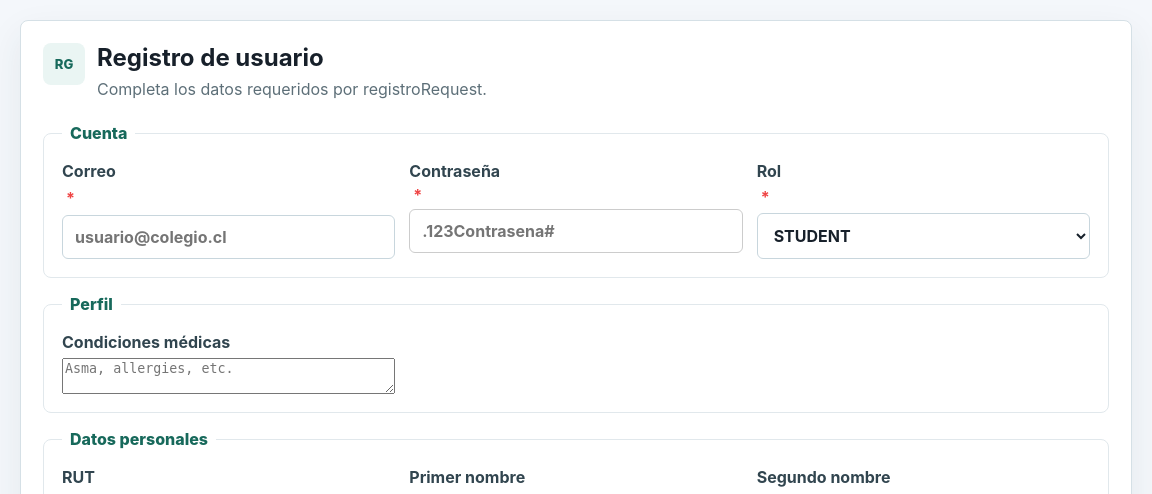
Test case: Componente RegisterForm › cambia los campos de perfil según el rol seleccionado (TEACHER)
Step 1. Select "TEACHER" in the dropdown labelled "Rol *" → (923, 236), box top-left (757, 213), bottom-right (1090, 259)
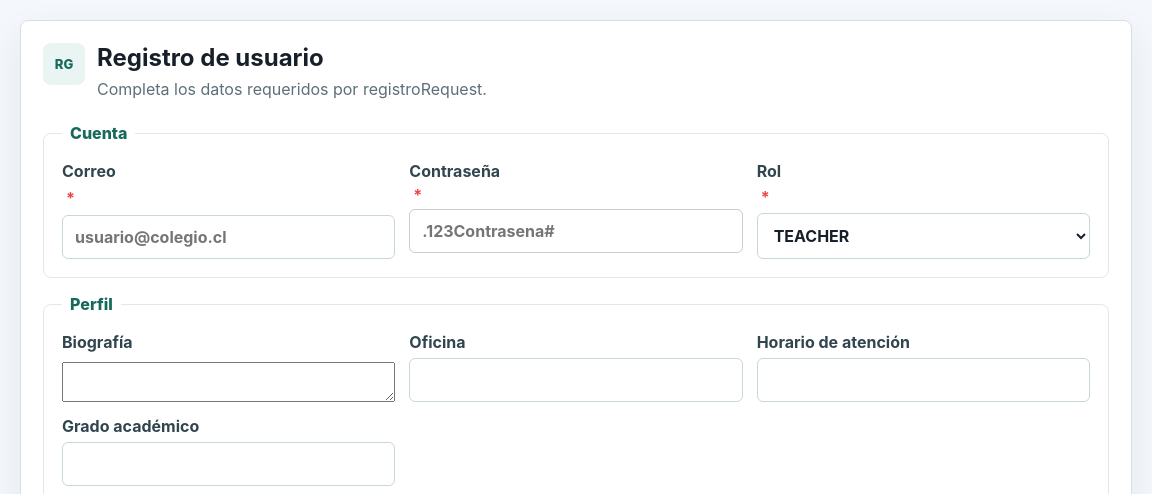
Expected: the text box labelled "Biografía" is shown, top-left (62, 362), bottom-right (395, 402)
Expected: the field labelled "Oficina" is shown, top-left (409, 358), bottom-right (743, 402)
Expected: the label labelled "Condiciones médicas" is gone
